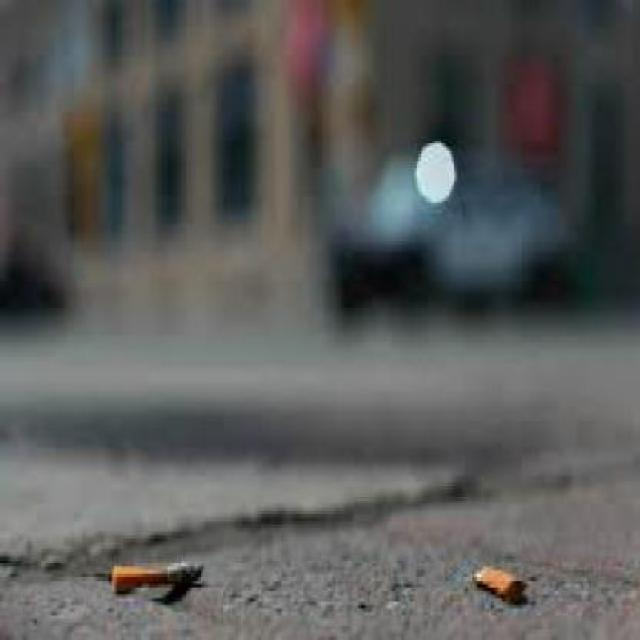cigarette: (428, 546, 552, 612), (100, 549, 223, 602)
